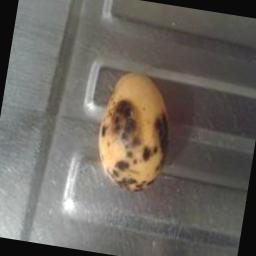Mango Rotten: (88, 62, 182, 203)
